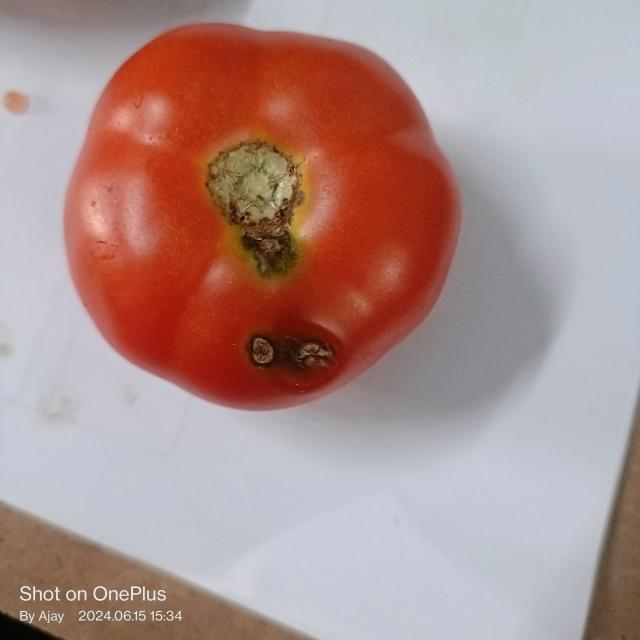Botrytis: (247, 322, 343, 376), (229, 230, 302, 279)
